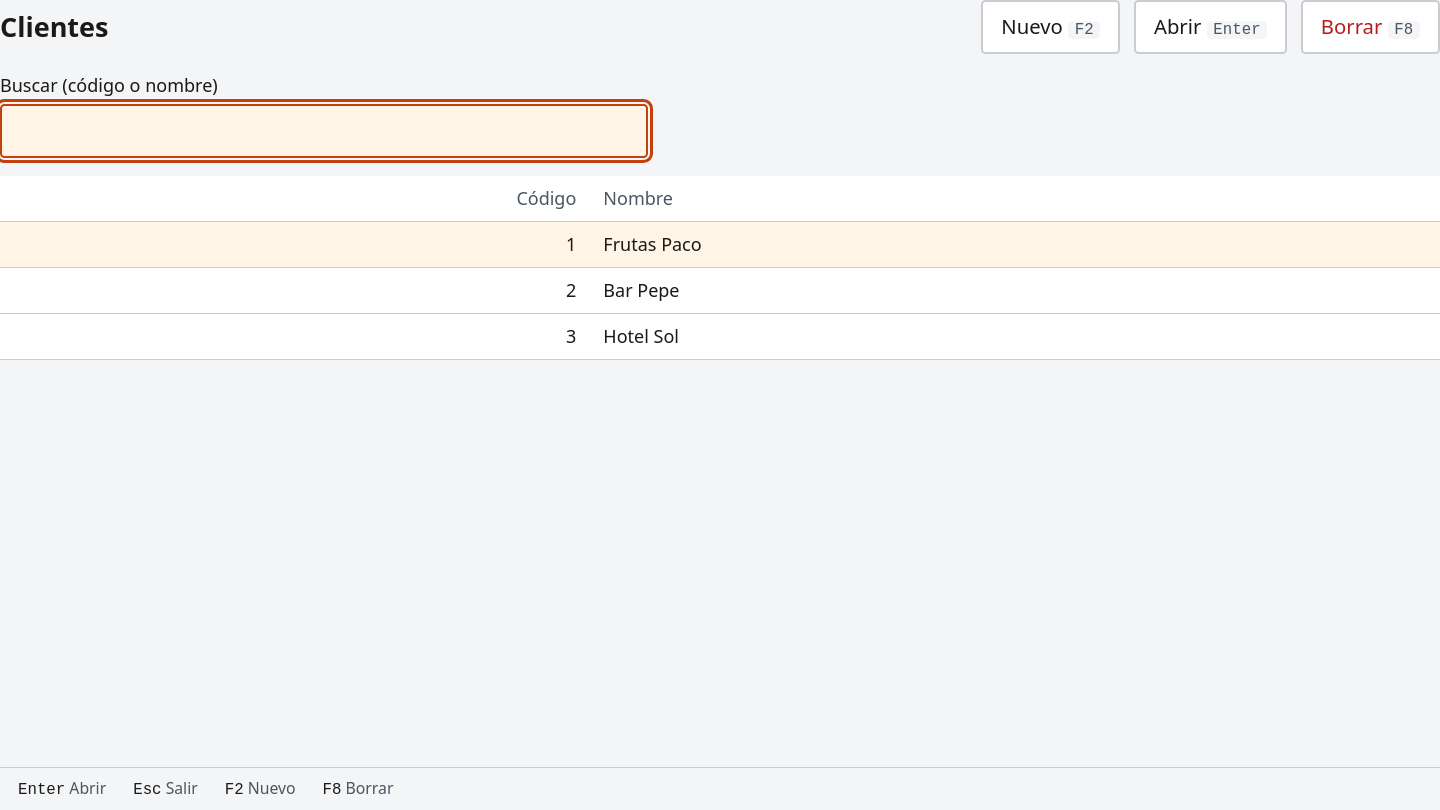
ListScreen › delete › Borrar asks about the marked row
Press Arrowdown
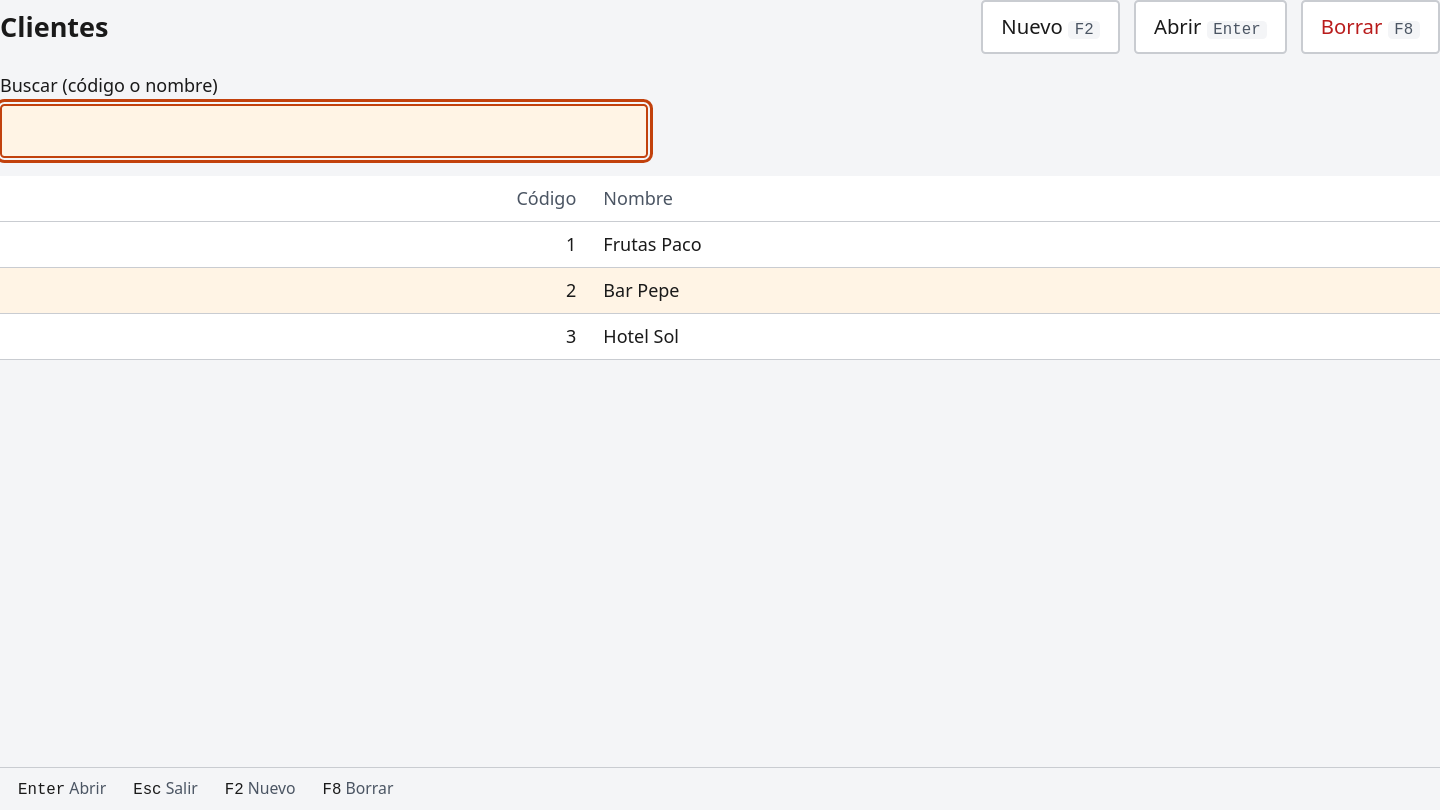
Click the button "Borrar F8". click: (1370, 27)
box: [1301, 0, 1439, 54]
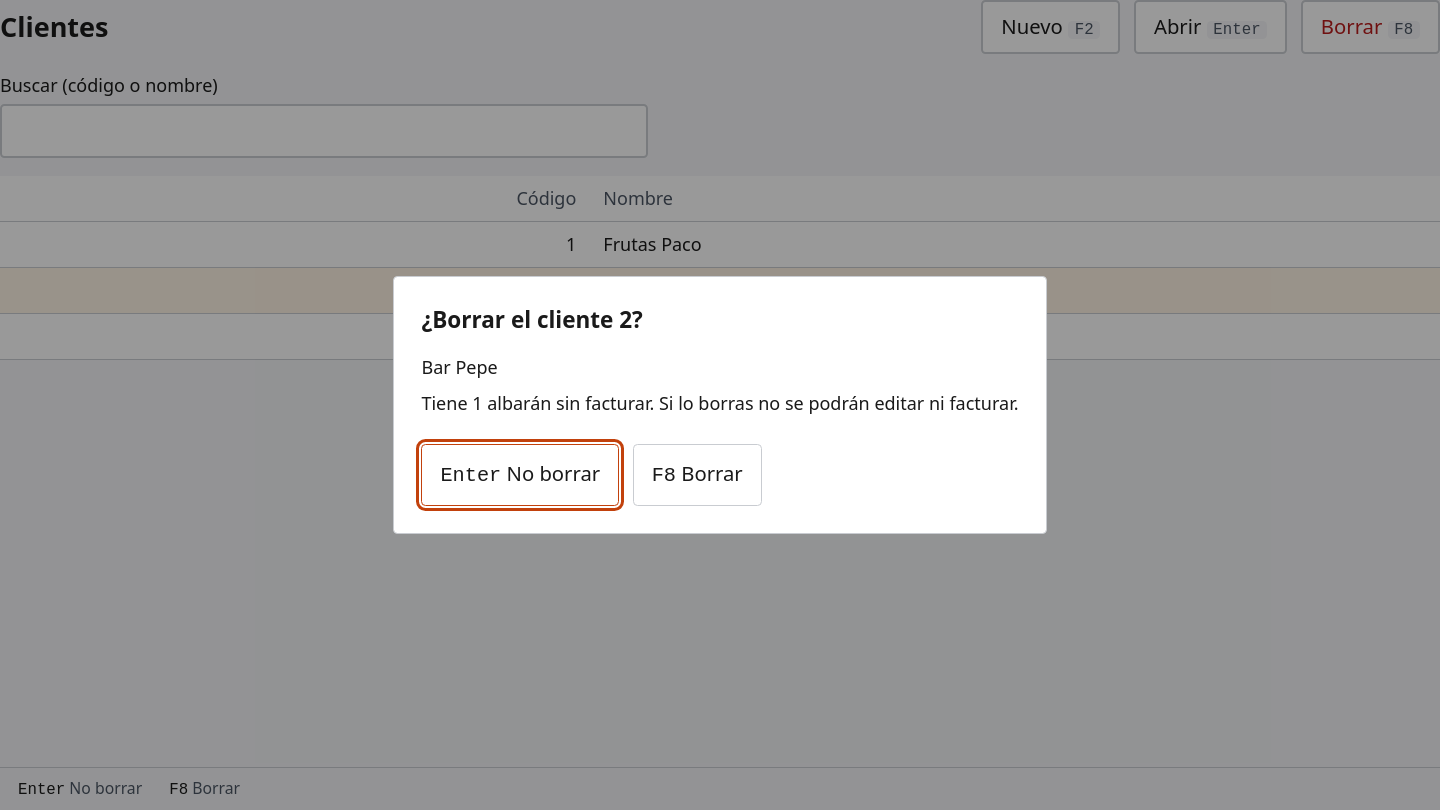
Expected: the dialog shows "¿Borrar el cliente 2?", [422, 304, 643, 335]
